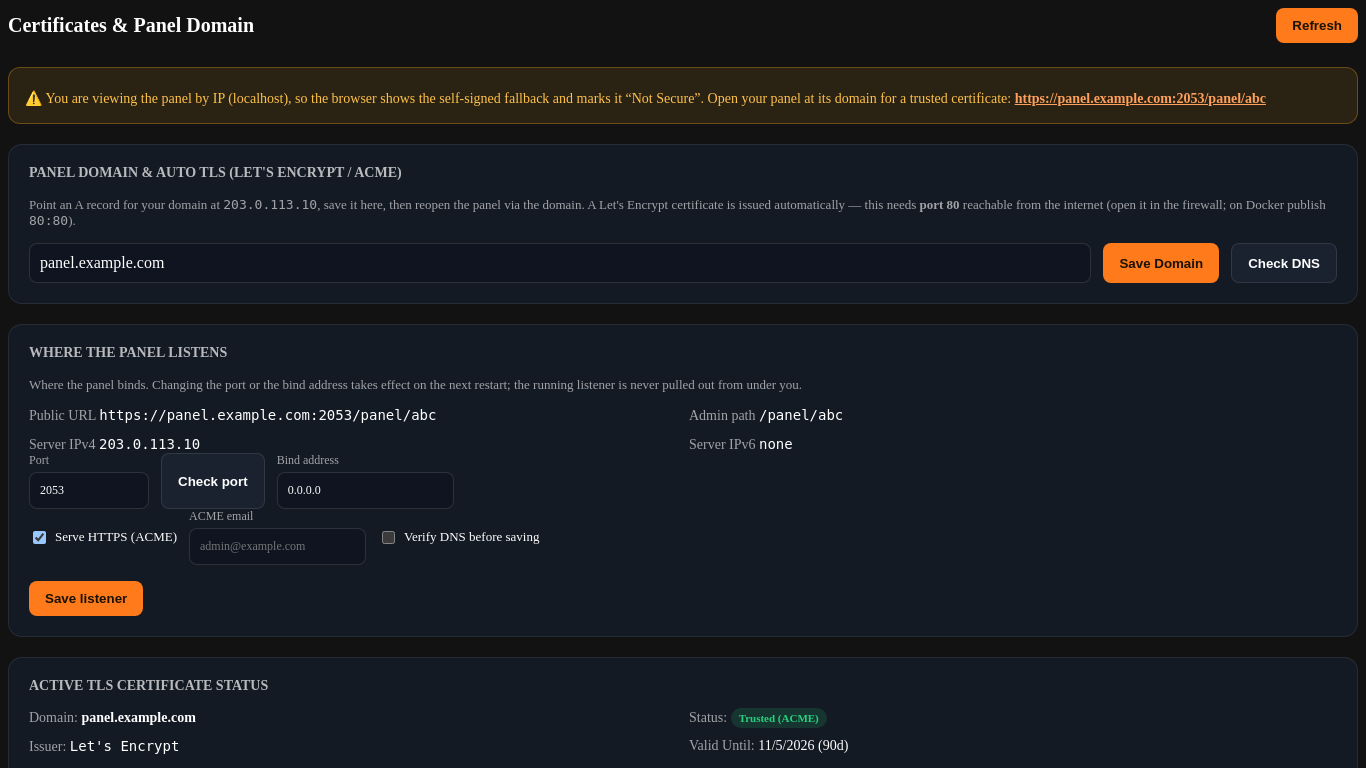
Test: CertificatesView panel listener › refuses a port outside the range before it becomes a bare 400
Replace the text in the number field with test id "port-input" with "70000" at (89, 490), box x1=29 y1=472 x2=149 y2=509
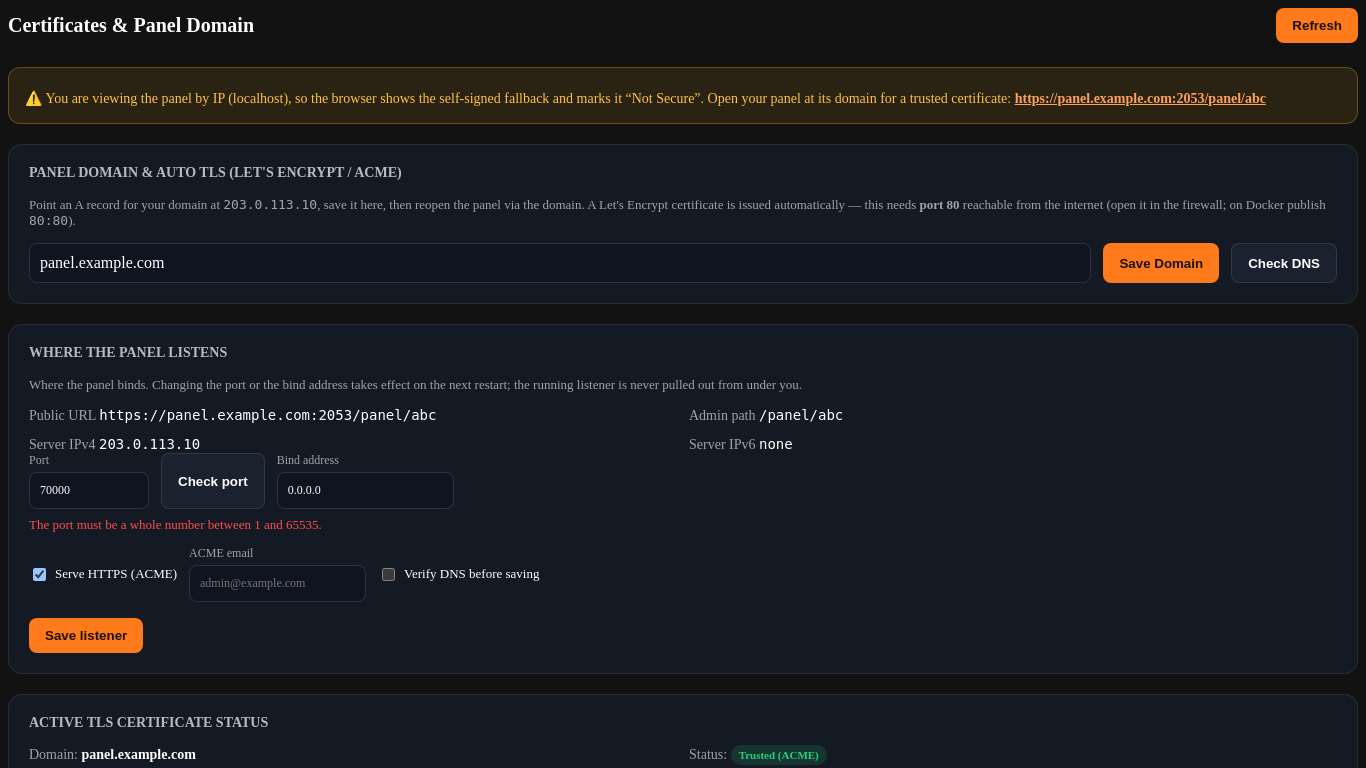
expect the text "The port must be a whole number between 1 and 65535." is shown: met, box x1=29 y1=517 x2=322 y2=532
expect the button with test id "save-address" is disabled: met, box x1=29 y1=618 x2=143 y2=653
